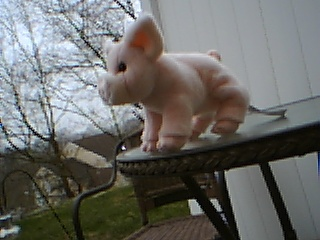piggy: (97, 12, 250, 157)
